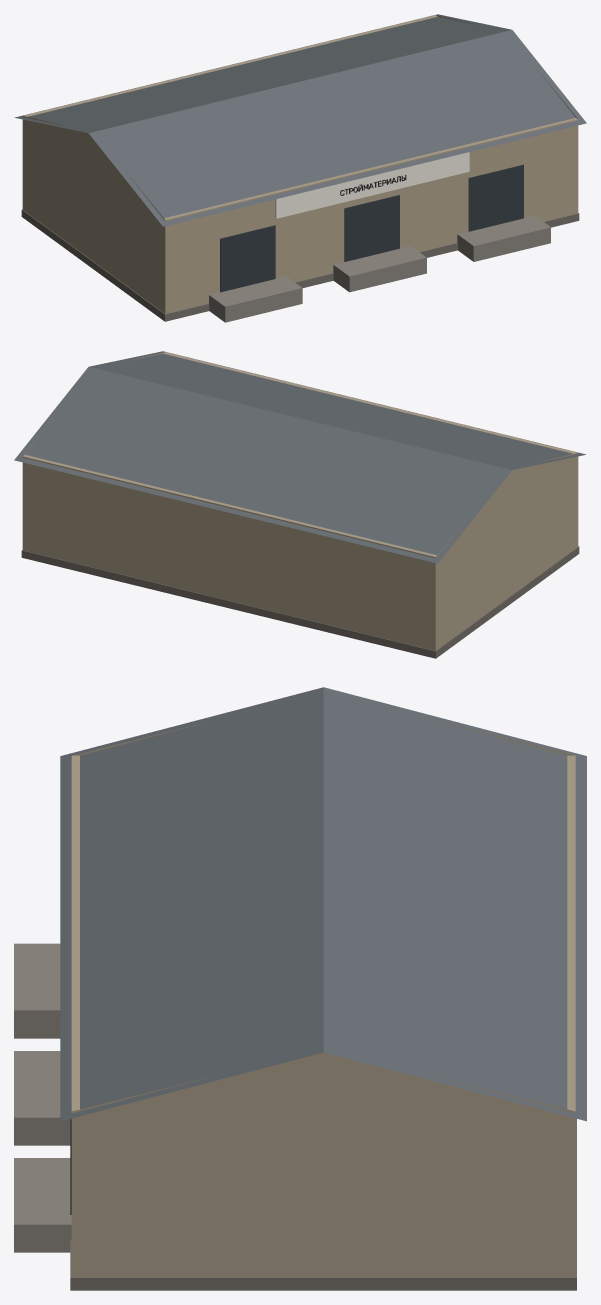
File: materials.glb
The picture shows the model from 3 angles, top to bottom: view 1: azimuth 30°, elevation 25°; view 2: azimuth 150°, elevation 25°; view 3: azimuth 270°, elevation 25°; orthographic projection. The views are drawn at different scales.
Parts seen in each view (by area): view 1: materials; view 2: materials; view 3: materials.
Boxes of the visible parts, x1,y1,x2,y2 form: materials: (14, 14, 586, 322); materials: (14, 351, 585, 658); materials: (14, 687, 586, 1290).
Size of the model in its own units: 30.7 by 9.5 by 20.35.
